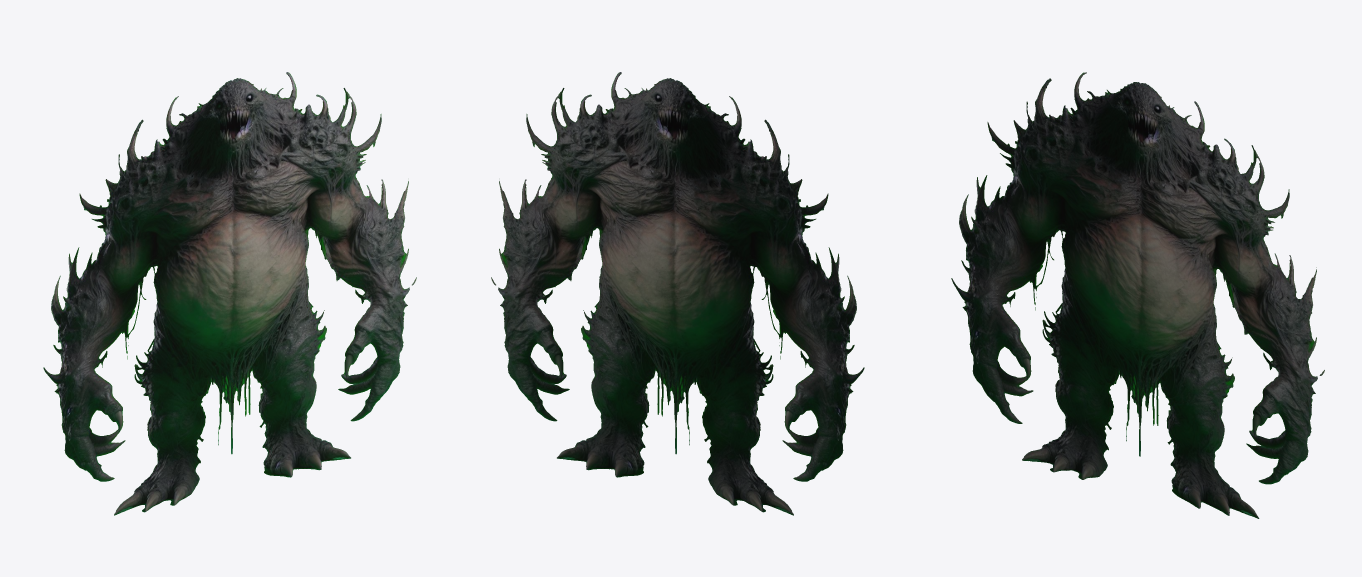
The model's file is all monsters flat - breakable.fbx.
3 renders of one model, left to right at view 1: azimuth 30°, elevation 25°; view 2: azimuth 150°, elevation 25°; view 3: azimuth 330°, elevation 25°, orthographic.
Visible parts, largest first — view 1: Plane001; view 2: Plane001; view 3: Plane001.
Part boxes in pixels (x1,y1,x2,y2): Plane001: (43, 72, 416, 515); Plane001: (491, 72, 864, 515); Plane001: (951, 72, 1324, 518).
Bounding box in the file's own units: 102 × 102 × 4.48e-06.
